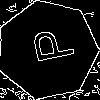P: (22, 25, 75, 67)
